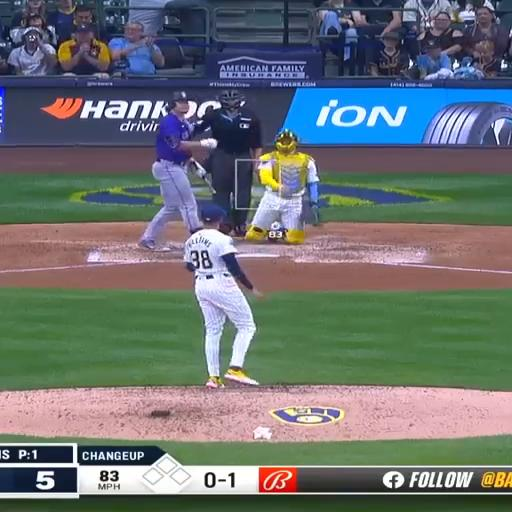bat: (203, 176, 215, 195)
